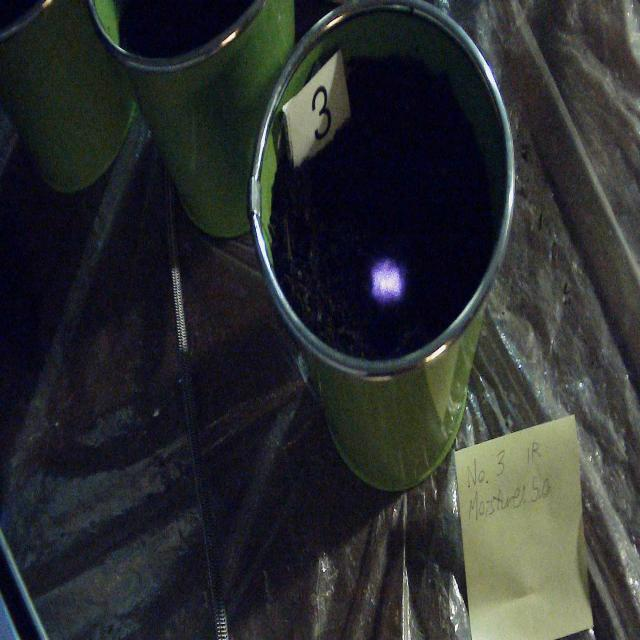soil-moisture-5.0: (371, 256, 404, 306)
